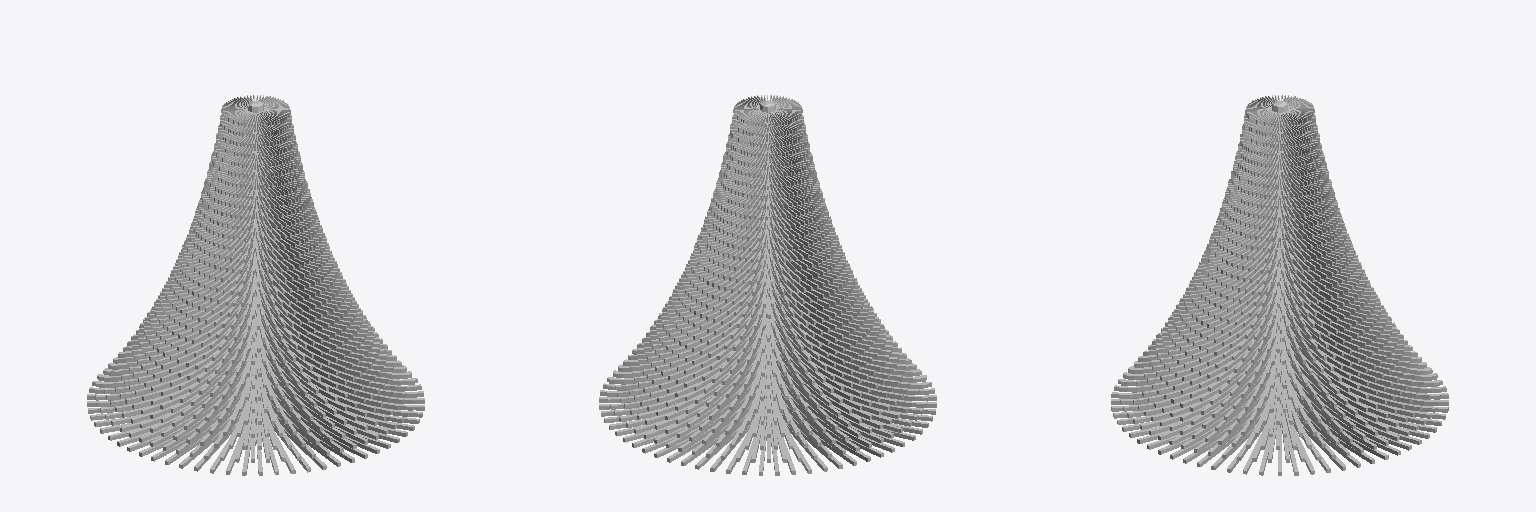
The model's file is steam_turbine.obj.
The picture shows the model from 3 angles: view 1: azimuth 30°, elevation 25°; view 2: azimuth 150°, elevation 25°; view 3: azimuth 270°, elevation 25°; orthographic projection.
Parts seen in each view (by area): view 1: Cube.002_Cube.001; view 2: Cube.002_Cube.001; view 3: Cube.002_Cube.001.
Part boxes in pixels (left/top/right/bottom): Cube.002_Cube.001: left=87, top=95, right=424, bottom=475; Cube.002_Cube.001: left=599, top=95, right=936, bottom=475; Cube.002_Cube.001: left=1111, top=95, right=1448, bottom=475.
Size of the model in its own units: 8 by 8 by 8.